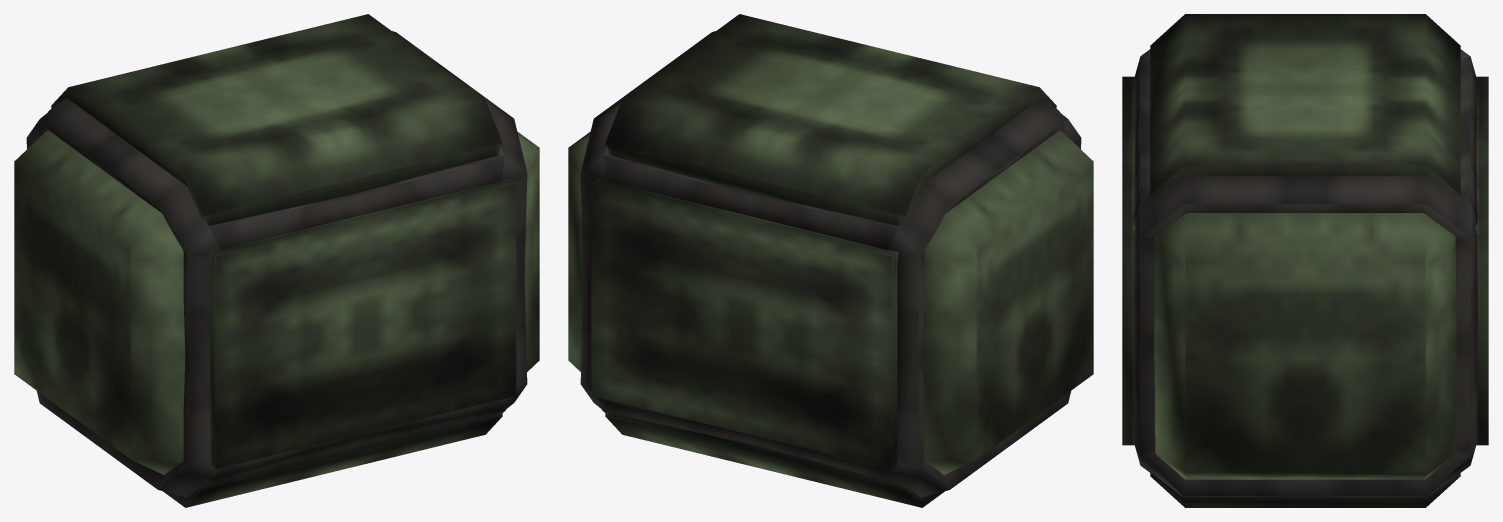
File: grave_drop_crate.glb
3 renders of one model, left to right at view 1: azimuth 30°, elevation 25°; view 2: azimuth 150°, elevation 25°; view 3: azimuth 270°, elevation 25°, orthographic. The views are drawn at different scales.
Parts seen in each view (by area): view 1: Cube.003, Cube.002, Cube.001, Cube; view 2: Cube.003, Cube.002, Cube.001, Cube; view 3: Cube.001, Cube.002, Cube, Cube.003.
Part boxes in pixels (bbox=[...]): Cube.003: bbox=[209, 178, 516, 468]; Cube.002: bbox=[51, 14, 502, 507]; Cube.001: bbox=[14, 130, 539, 474]; Cube: bbox=[26, 31, 527, 497]; Cube.003: bbox=[591, 178, 898, 468]; Cube.002: bbox=[605, 14, 1056, 507]; Cube.001: bbox=[568, 130, 1093, 474]; Cube: bbox=[580, 31, 1081, 497]; Cube.001: bbox=[1154, 213, 1456, 479]; Cube.002: bbox=[1150, 14, 1460, 507]; Cube: bbox=[1133, 49, 1477, 496]; Cube.003: bbox=[1122, 76, 1488, 445].
Size of the model in its own units: 1.27 by 0.9972 by 0.9634.
Materials: 2 (2 with a texture image).
